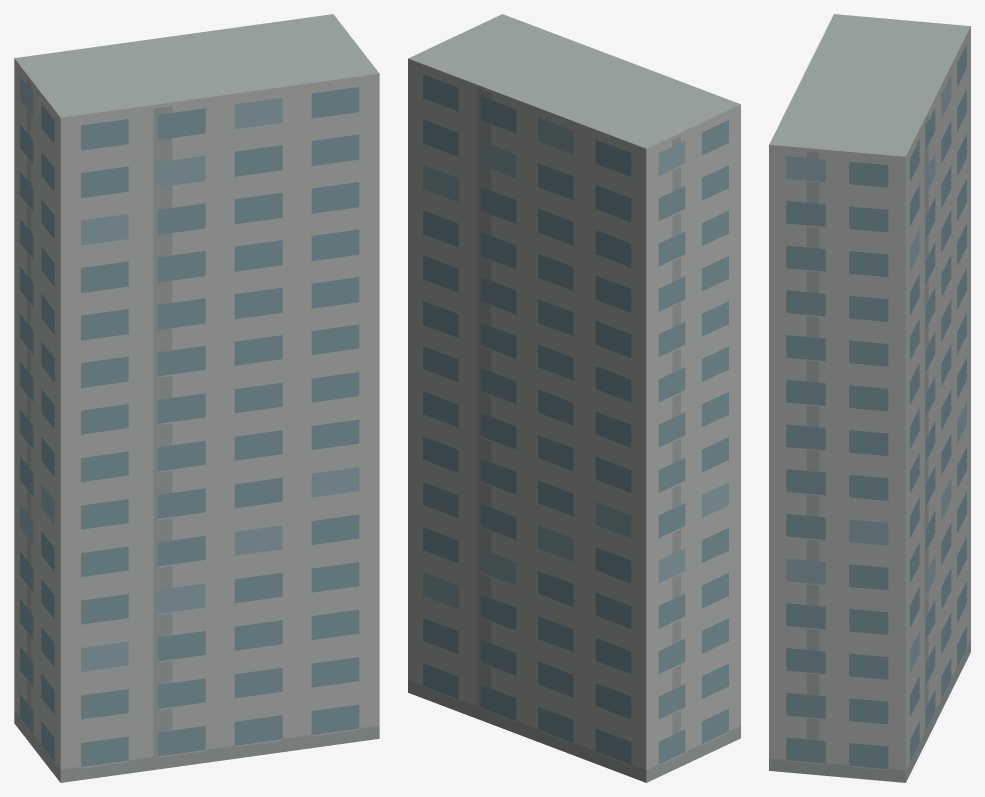
The model's file is residential-42792efa-b59e-405f-90bd-321486bcba4b.glb.
The picture shows the model from 3 angles, left to right: view 1: azimuth 30°, elevation 25°; view 2: azimuth 150°, elevation 25°; view 3: azimuth 270°, elevation 25°; orthographic projection. The views are drawn at different scales.
Visible parts, largest first — view 1: residential-42792efa-b59e-405f-90bd-321486bcba4b.tmp; view 2: residential-42792efa-b59e-405f-90bd-321486bcba4b.tmp; view 3: residential-42792efa-b59e-405f-90bd-321486bcba4b.tmp.
Part boxes in pixels (x1=…): residential-42792efa-b59e-405f-90bd-321486bcba4b.tmp: x1=14, y1=14, x2=379, y2=782; residential-42792efa-b59e-405f-90bd-321486bcba4b.tmp: x1=408, y1=14, x2=740, y2=782; residential-42792efa-b59e-405f-90bd-321486bcba4b.tmp: x1=769, y1=14, x2=970, y2=782.
Bounding box in the file's own units: 21.54 × 44 × 12.86.
